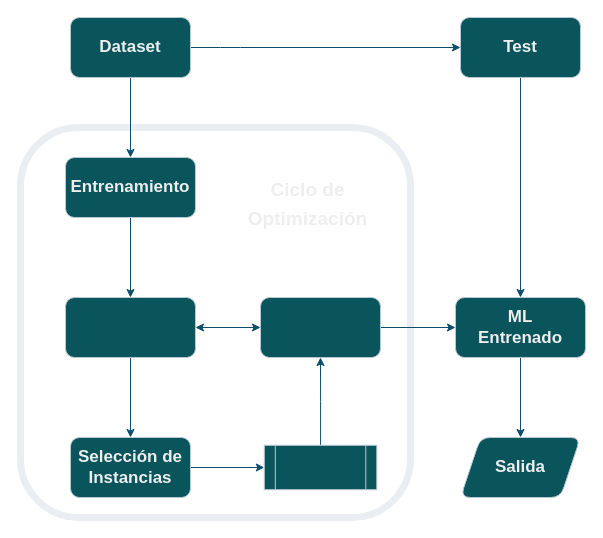
Image size: 603x538. Some labels were removed from this diagram. Here are the shapes that lost their labels. From the top down, the box of each, then its label:
(64, 296, 196, 358): Metaheurística
(260, 296, 380, 358): ML
(263, 444, 377, 490): Métrica de Acierto
